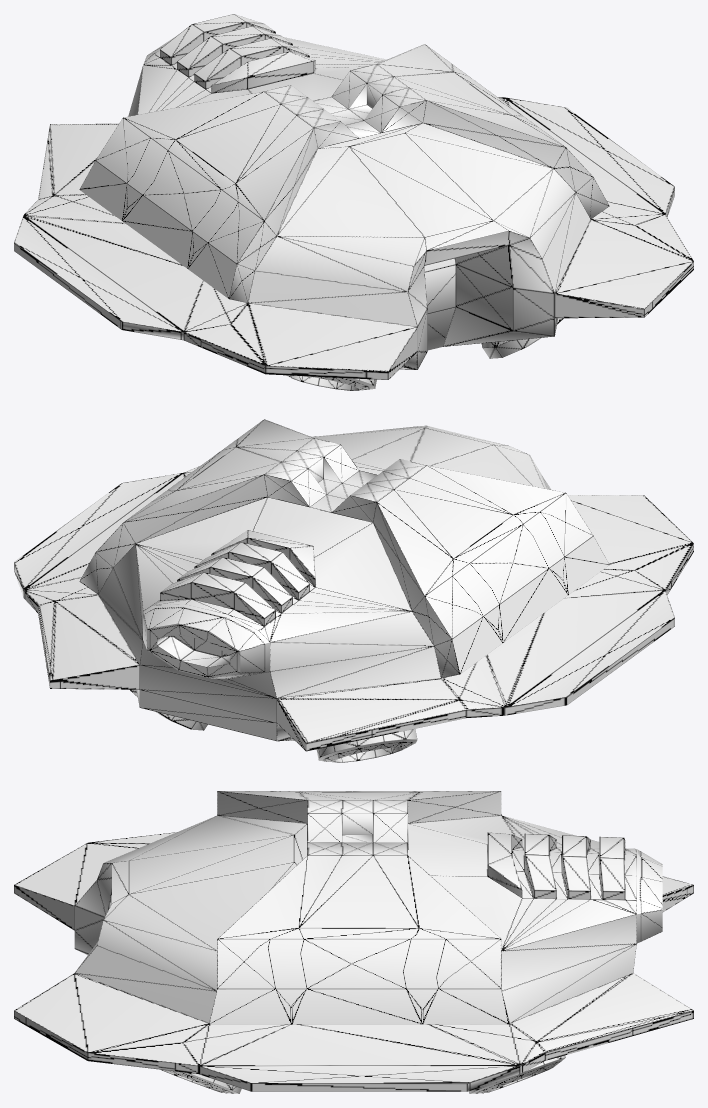
File: Large Transport - GPU mesh mapper test.obj
3 views of the same model, one above another, from view 1: azimuth 30°, elevation 25°; view 2: azimuth 150°, elevation 25°; view 3: azimuth 270°, elevation 25° (orthographic).
Visible parts, largest first — view 1: cylinder12; view 2: cylinder12; view 3: cylinder12.
Part boxes in pixels (bbox=[...]): cylinder12: bbox=[14, 14, 693, 390]; cylinder12: bbox=[14, 419, 693, 762]; cylinder12: bbox=[14, 791, 693, 1093].
Bounding box in the file's own units: 9.67 × 3.72 × 10.24.
